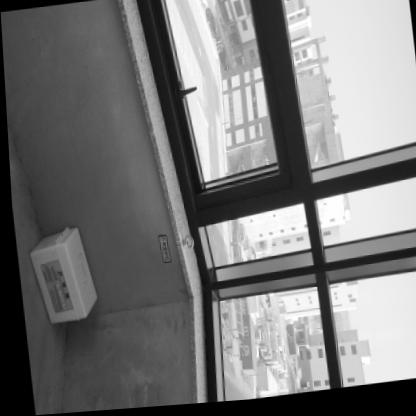DDL: (24, 223, 96, 325)
